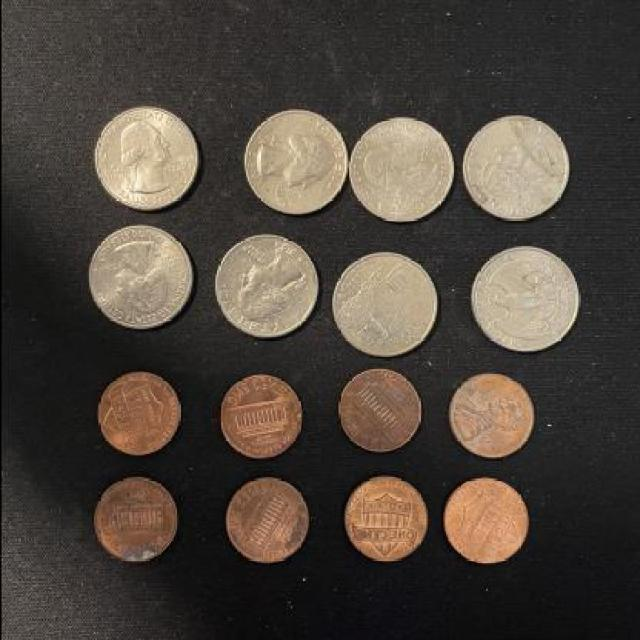Penny: (337, 475, 435, 568), (444, 368, 538, 462), (438, 477, 531, 568), (224, 475, 314, 568), (338, 364, 424, 458), (215, 374, 303, 463), (90, 372, 182, 457), (90, 478, 182, 562)
Quarter: (463, 244, 579, 356), (460, 112, 571, 223), (346, 116, 456, 227), (326, 252, 437, 360), (240, 106, 348, 217), (88, 106, 202, 211), (81, 228, 196, 332), (214, 232, 323, 340)
